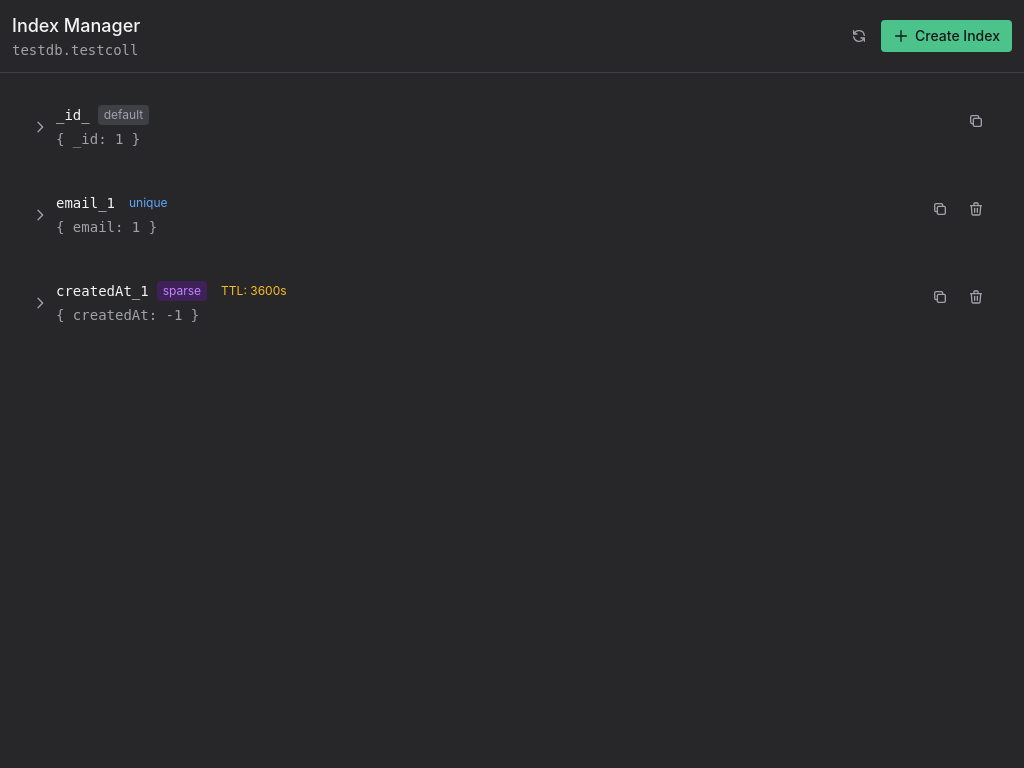
IndexView › create index form › shows create form when Create Index button is clicked
Expected: the text "Create Index" is shown, [915,26,1000,46]
Click the button "Create Index".
click(947, 36)  # box [881,20,1012,52]
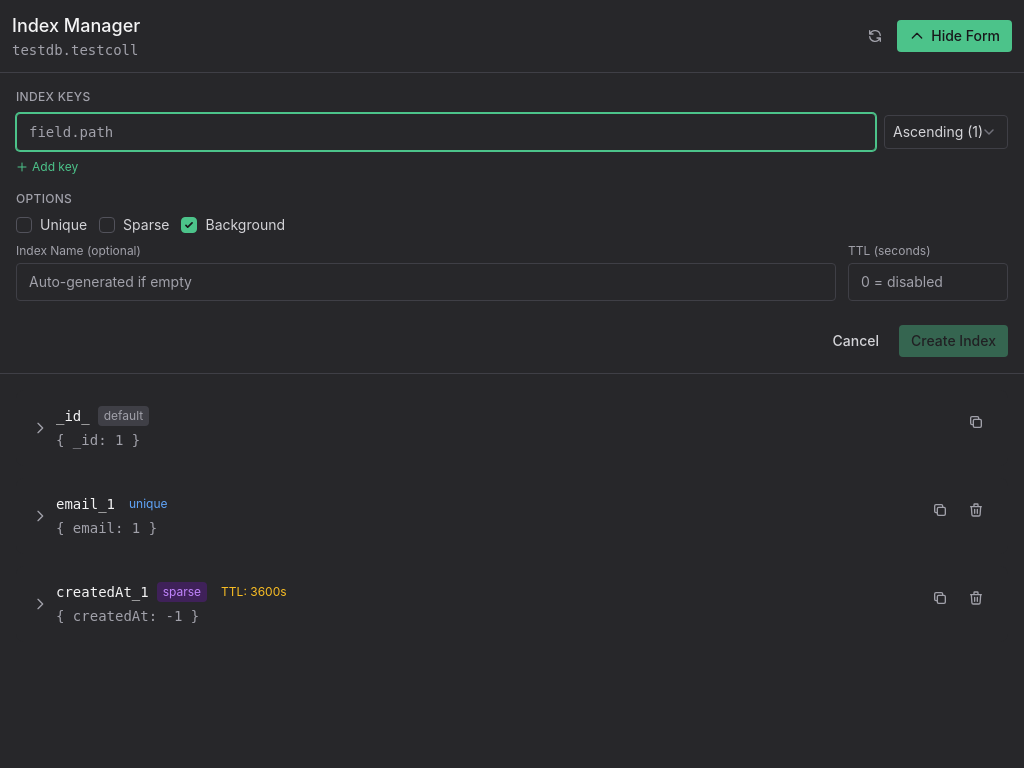
Expected: the text "Index Keys" is shown, [16,89,90,104]
Expected: the field with placeholder "field.path" is shown, [16,113,876,151]
Expected: the text "Unique" is shown, [16,215,87,235]
